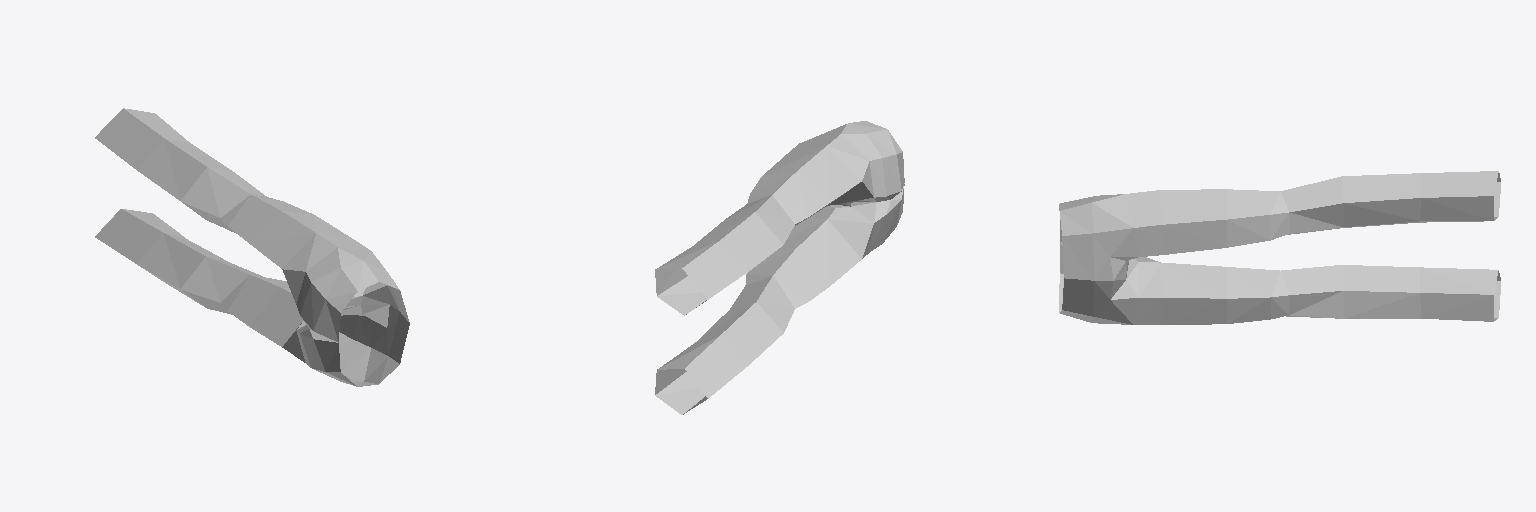
The model's file is 오리지널 하의.obj.
3 views of the same model, side by side, from view 1: azimuth 30°, elevation 25°; view 2: azimuth 150°, elevation 25°; view 3: azimuth 270°, elevation 25° (orthographic).
Visible parts, largest first — view 1: ka_downbody_001; view 2: ka_downbody_001; view 3: ka_downbody_001.
Part boxes in pixels (x1,y1,x2,y2): ka_downbody_001: (95,108,409,386); ka_downbody_001: (655,121,904,414); ka_downbody_001: (1059,171,1500,324).
Bounding box in the file's own units: 27.18 × 37.58 × 103.